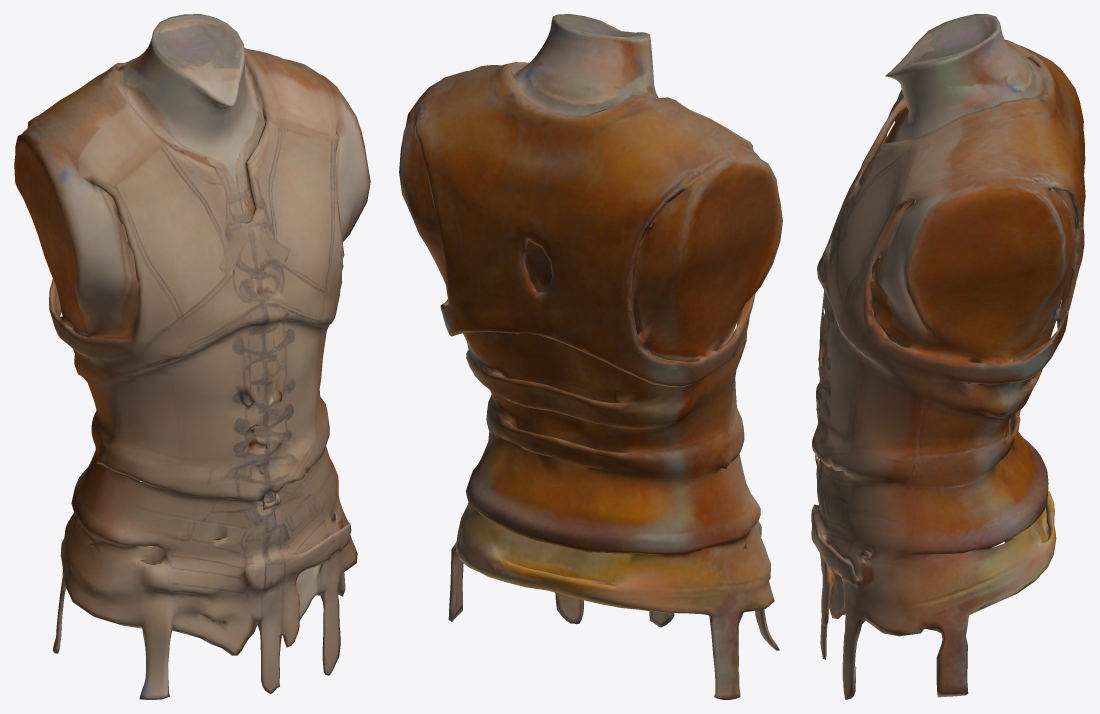
Rendered from Leather Body.glb.
3 views of the same model, side by side, from view 1: azimuth 30°, elevation 25°; view 2: azimuth 150°, elevation 25°; view 3: azimuth 270°, elevation 25° (orthographic). The views are drawn at different scales.
Parts seen in each view (by area): view 1: file1; view 2: file1; view 3: file1.
Part boxes in pixels (box(x1,y1,x2,y2)): file1: box(14, 14, 370, 699); file1: box(399, 14, 782, 699); file1: box(811, 14, 1085, 699).
Size of the model in its own units: 0.994 by 1.98 by 0.7753.
Materials: 1 (1 with a texture image).
